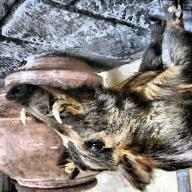boar: (6, 8, 192, 191)
